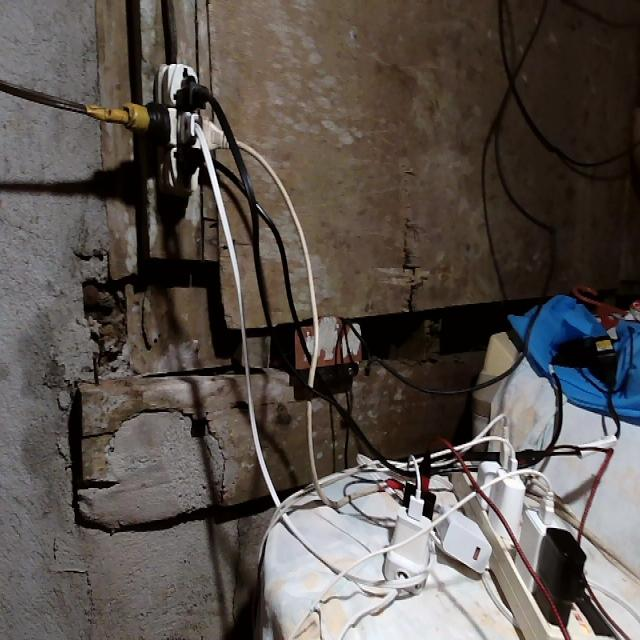-: (122, 61, 233, 199)
